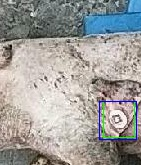text: (103, 101, 134, 137)
